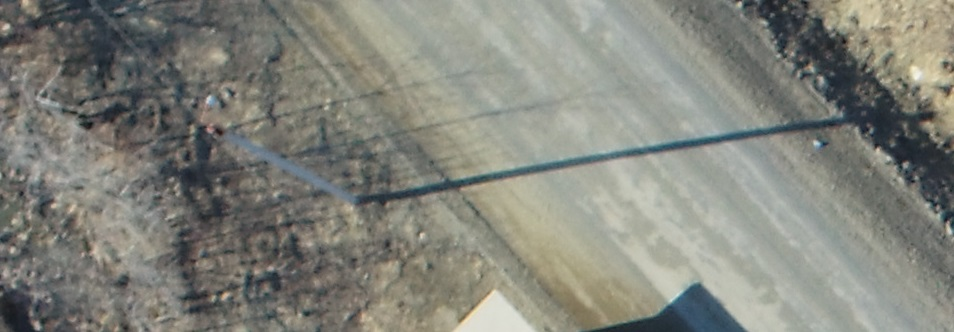opora: (192, 88, 540, 216)
